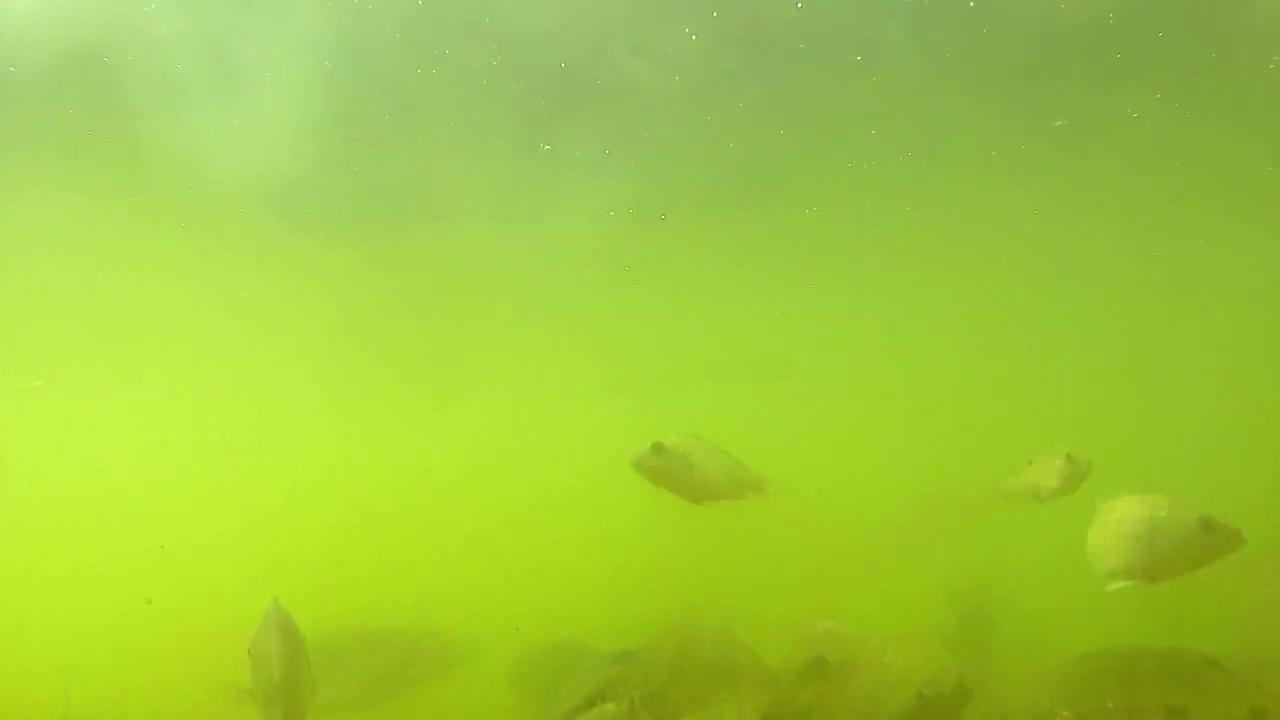Tilapia: (1091, 490, 1248, 594), (1077, 644, 1274, 720), (627, 424, 764, 514), (247, 598, 320, 720), (1009, 444, 1090, 512)
